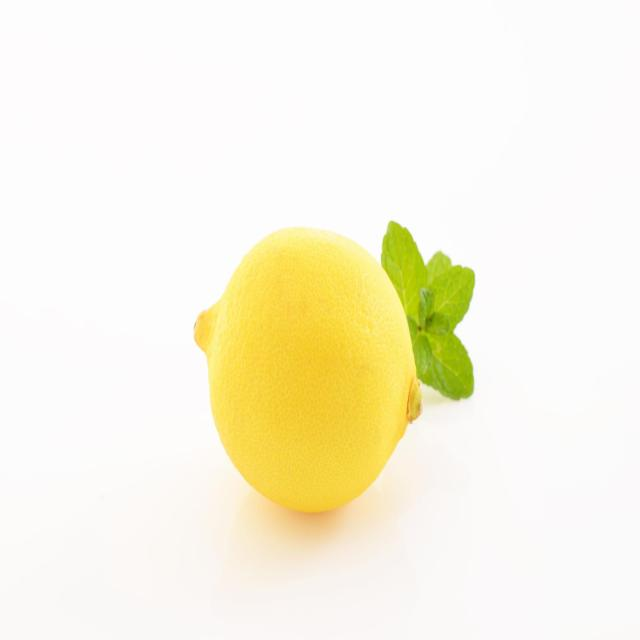lemon: (190, 216, 482, 519)
